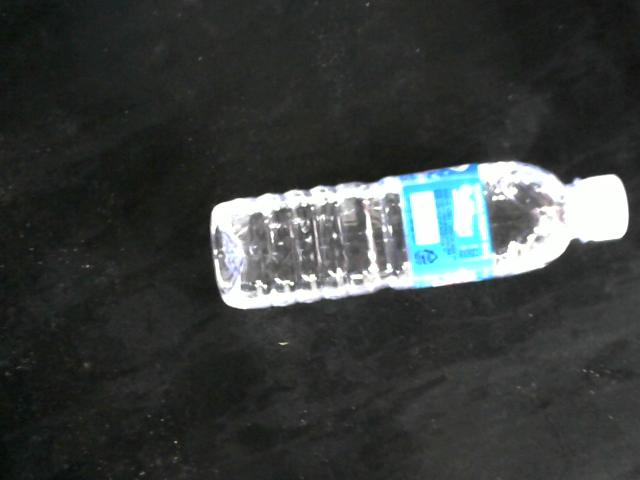bottle: (208, 158, 631, 312)
